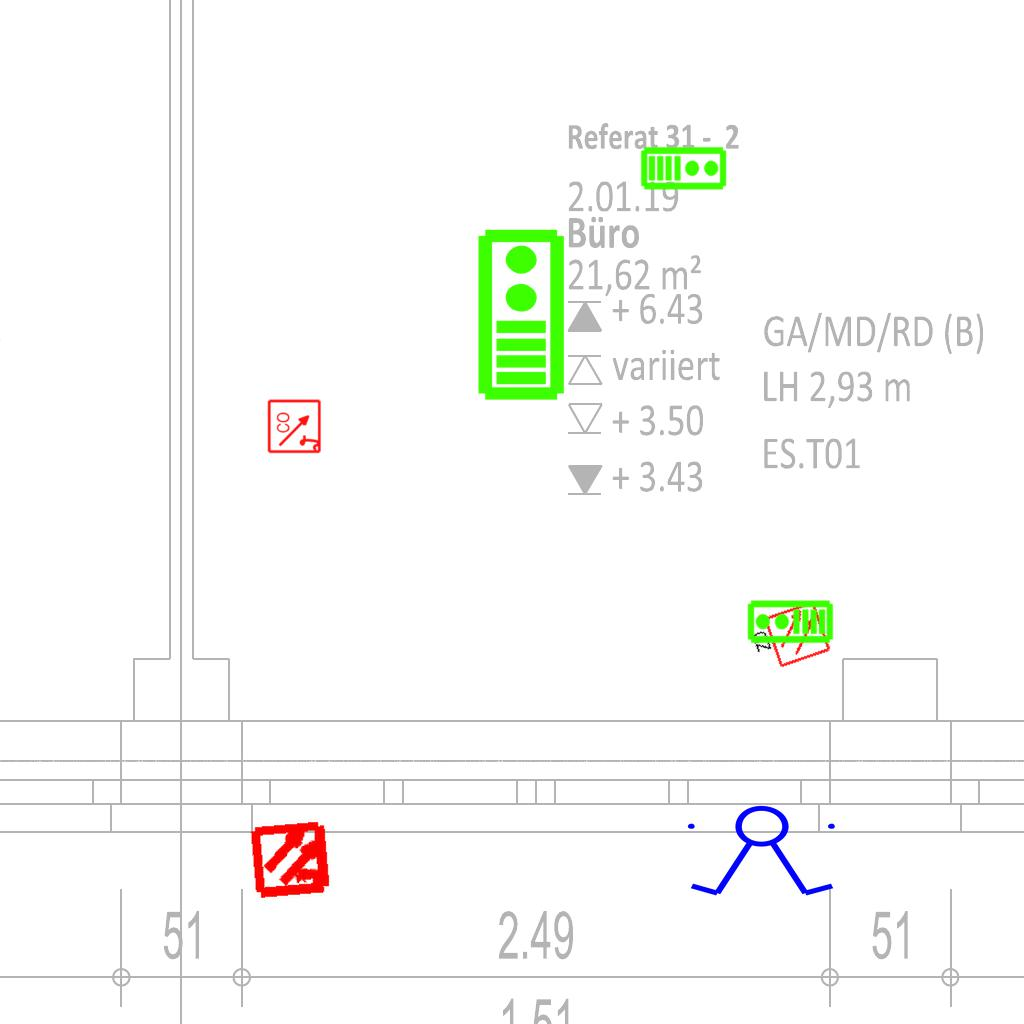Gegensprechanlage_mit_Video: (472, 226, 567, 402), (640, 144, 728, 191), (746, 599, 834, 646)
OT_Multisensormelder_(Kombination_RMO_WMD): (231, 798, 354, 921)
ROA_Rauchmelder_optisch_mit_Signalgeber_(Sockelsirene): (267, 398, 323, 454)
Serienschalter: (679, 804, 847, 900)
ZD_Melder_in_Zwischendecke_mit_Revisionsoeffnung_mind_40_x_40_cm: (744, 599, 833, 677)
